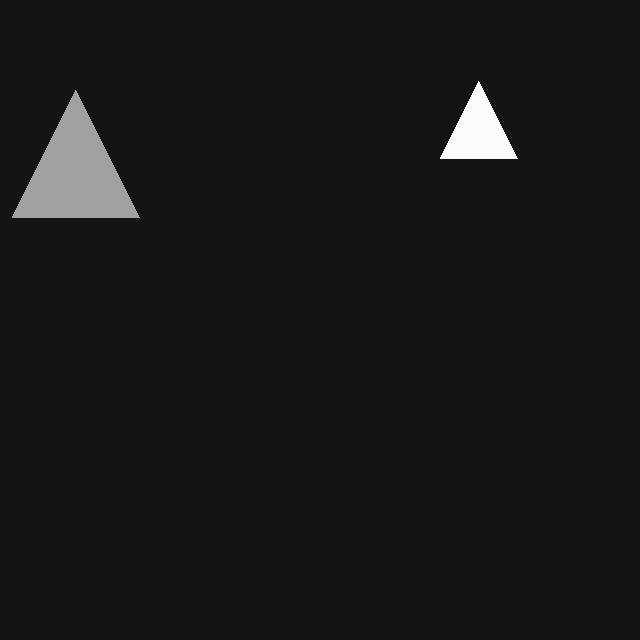triangle: (12, 90, 139, 217), (440, 81, 517, 158)
